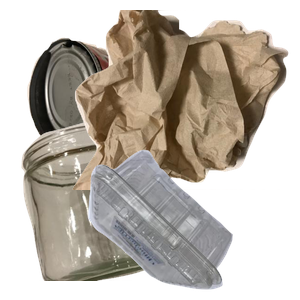glass: (19, 120, 184, 300)
metal: (25, 35, 189, 180)
plastic: (86, 147, 300, 300)
trash: (70, 10, 300, 190)
